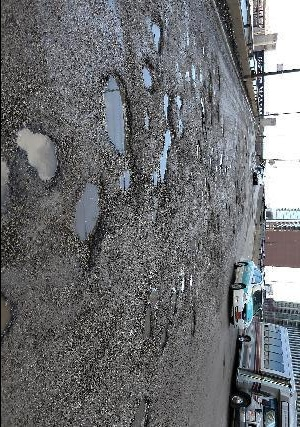pothole: (101, 69, 137, 158), (15, 124, 63, 183), (71, 177, 107, 247), (157, 126, 174, 183), (0, 289, 19, 338), (129, 397, 152, 427), (141, 58, 159, 93), (149, 19, 165, 57), (143, 303, 154, 342), (161, 91, 173, 125), (175, 92, 185, 112)
